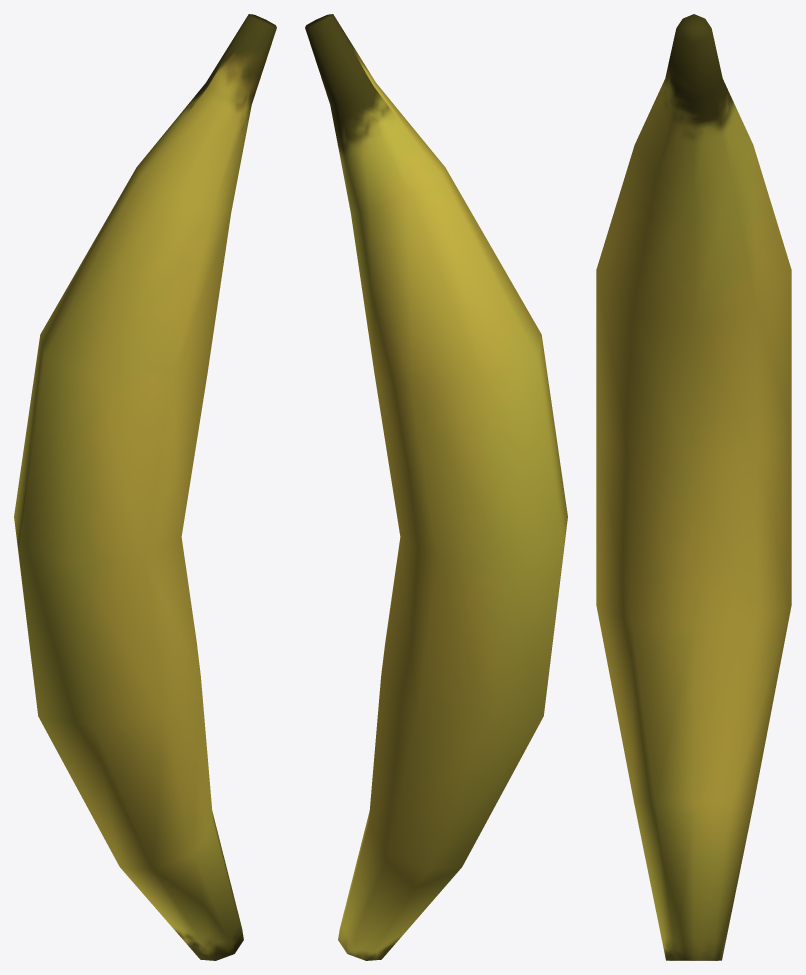
Rendered from banana.glb.
3 views of the same model, side by side, from view 1: azimuth 30°, elevation 25°; view 2: azimuth 150°, elevation 25°; view 3: azimuth 270°, elevation 25° (orthographic). The views are drawn at different scales.
Visible parts, largest first — view 1: Cube; view 2: Cube; view 3: Cube.
Part boxes in pixels (x1,y1,x2,y2): Cube: [14, 14, 276, 960]; Cube: [305, 14, 567, 960]; Cube: [596, 14, 791, 960].
Size of the model in its own units: 0.2793 by 0.964 by 0.1756.
Materials: 1 (1 with a texture image).
